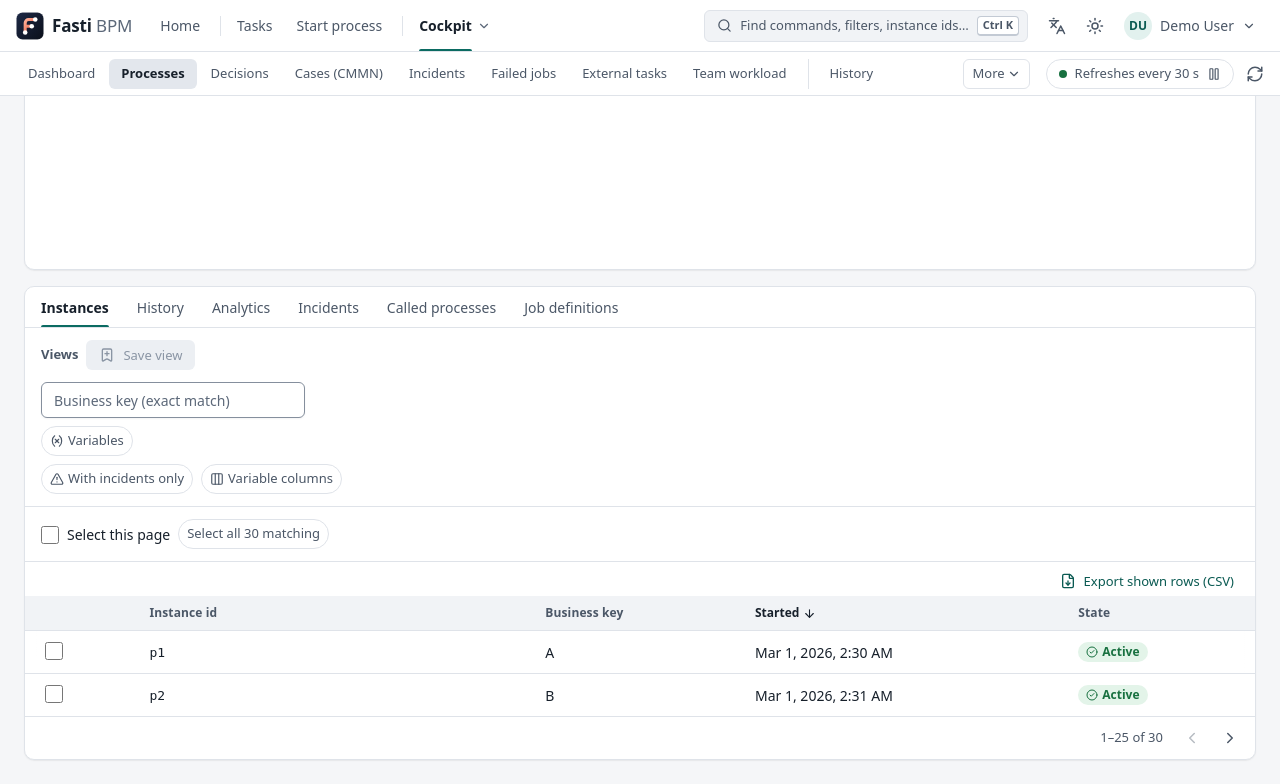
Test: bulk operations › suspends every matching instance in a batch after a confirmation with the count
The image size is (1280, 784).
Later steps or results of the test are not shown.
(page scrolled)
Click the checkbox named "Select instance p1": (54, 651) [45,642,63,660]
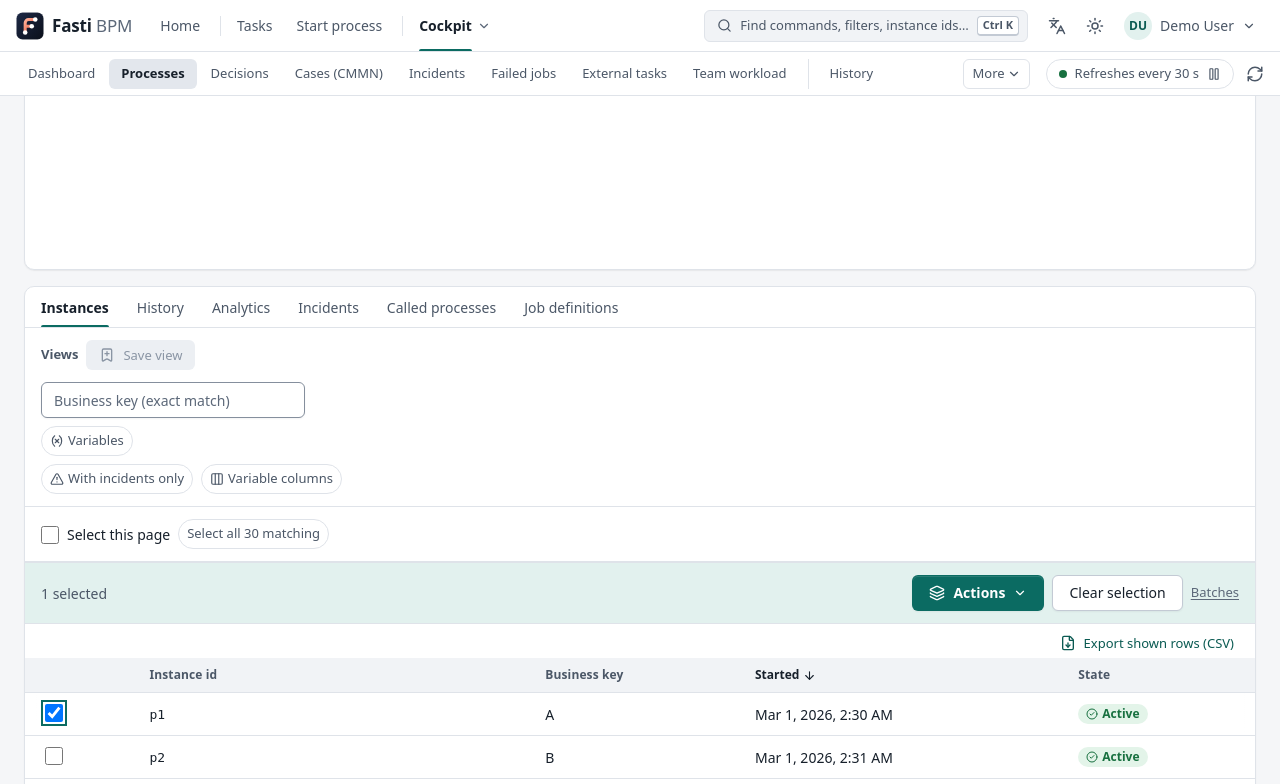
Now the text "1 selected" is shown, box [41,584,107,603]
Click the button "Select all 30 matching": (254, 534) [178,519,329,549]
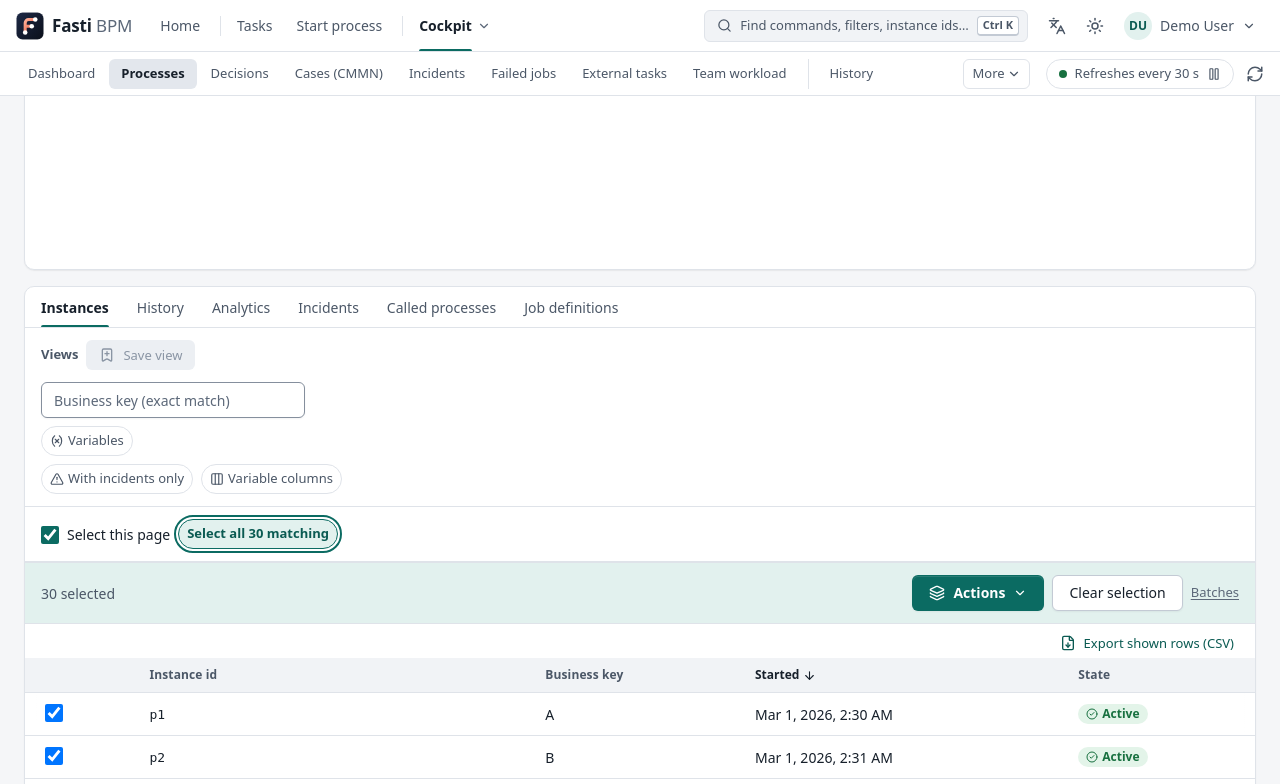
Now the text "30 selected" is shown, box [41,584,115,603]
